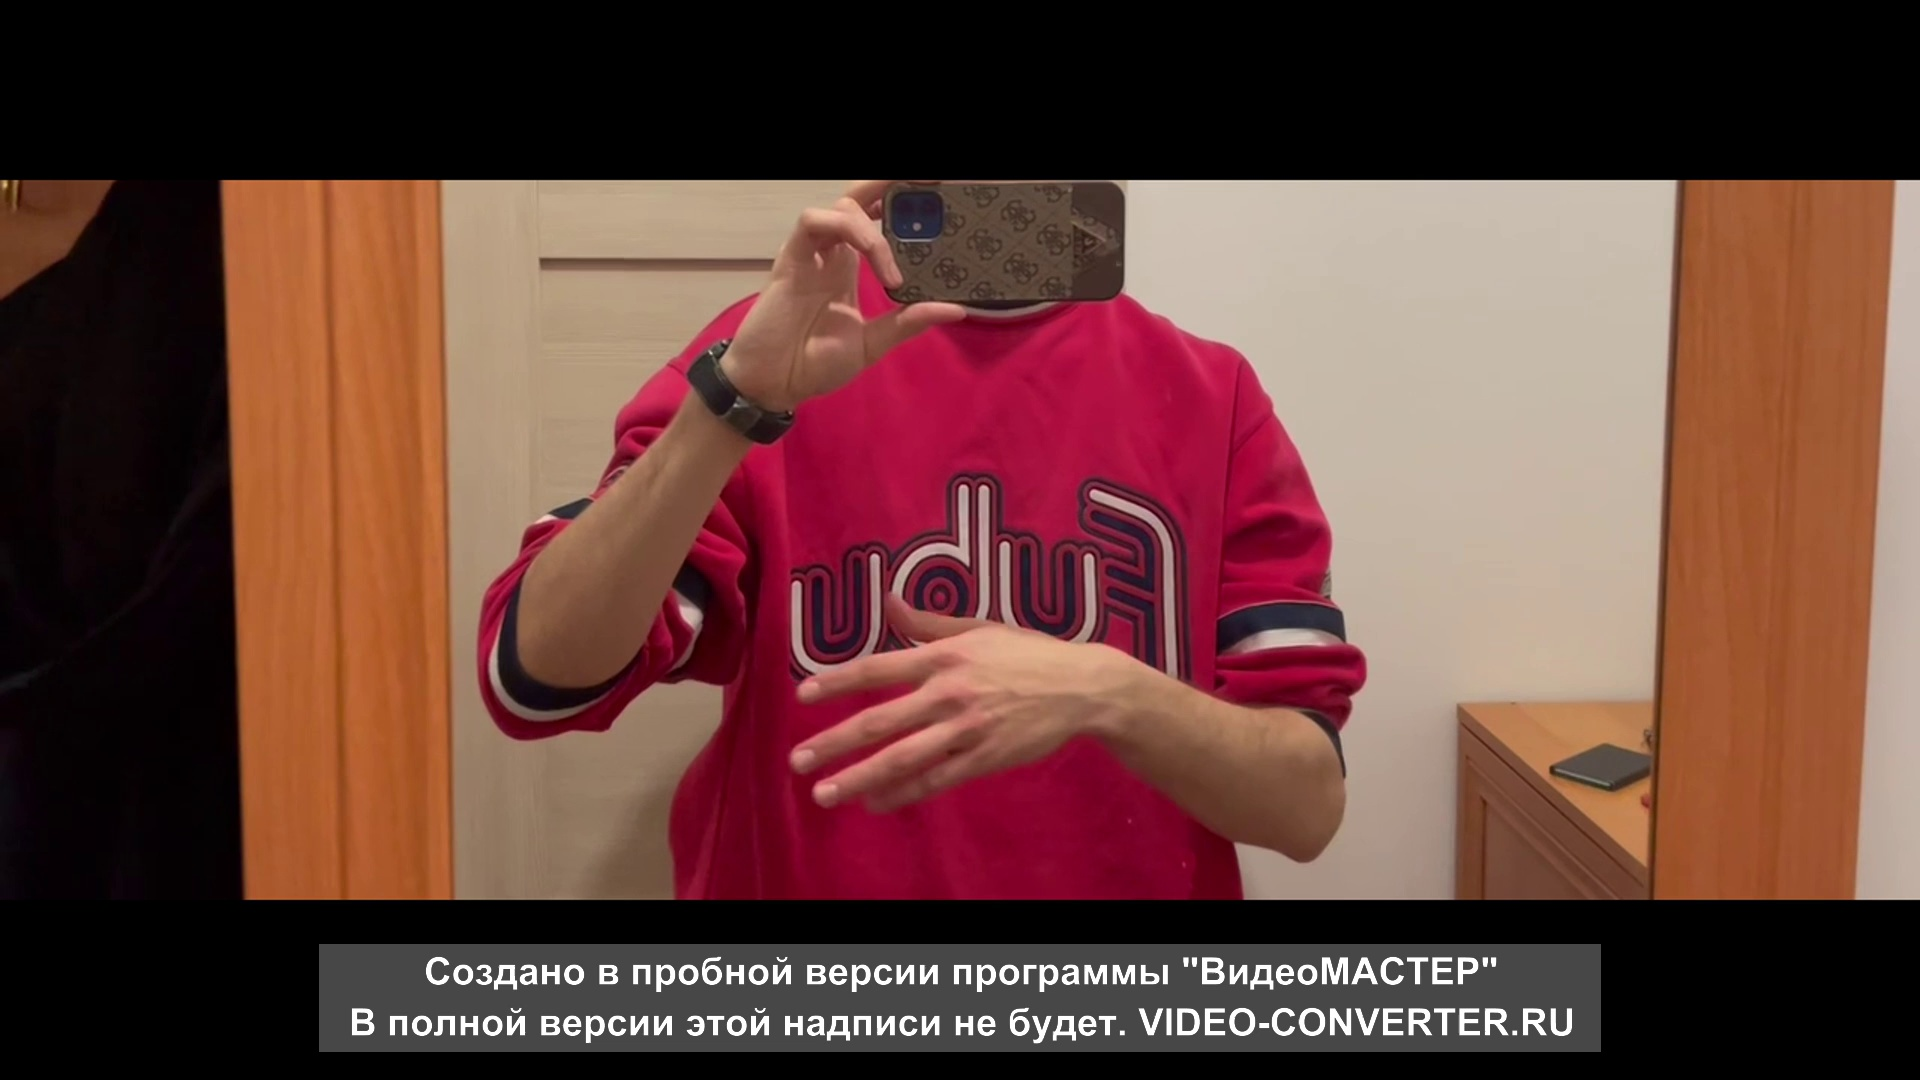Кисть: (789, 591, 1114, 808)
